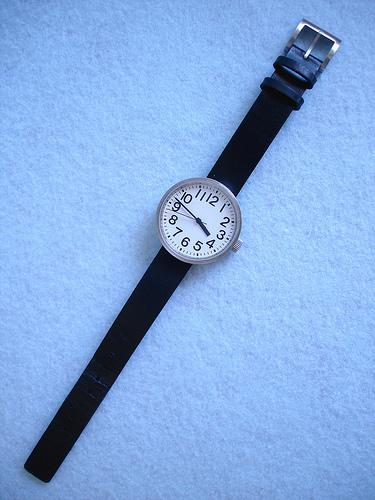pen: (156, 174, 243, 265)
